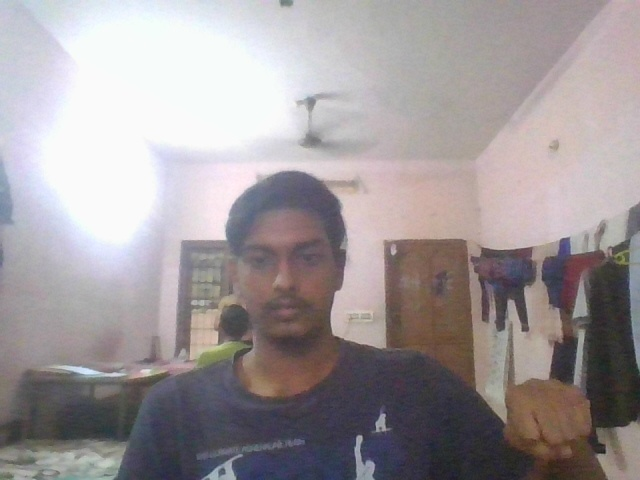yes: (495, 368, 599, 473)
